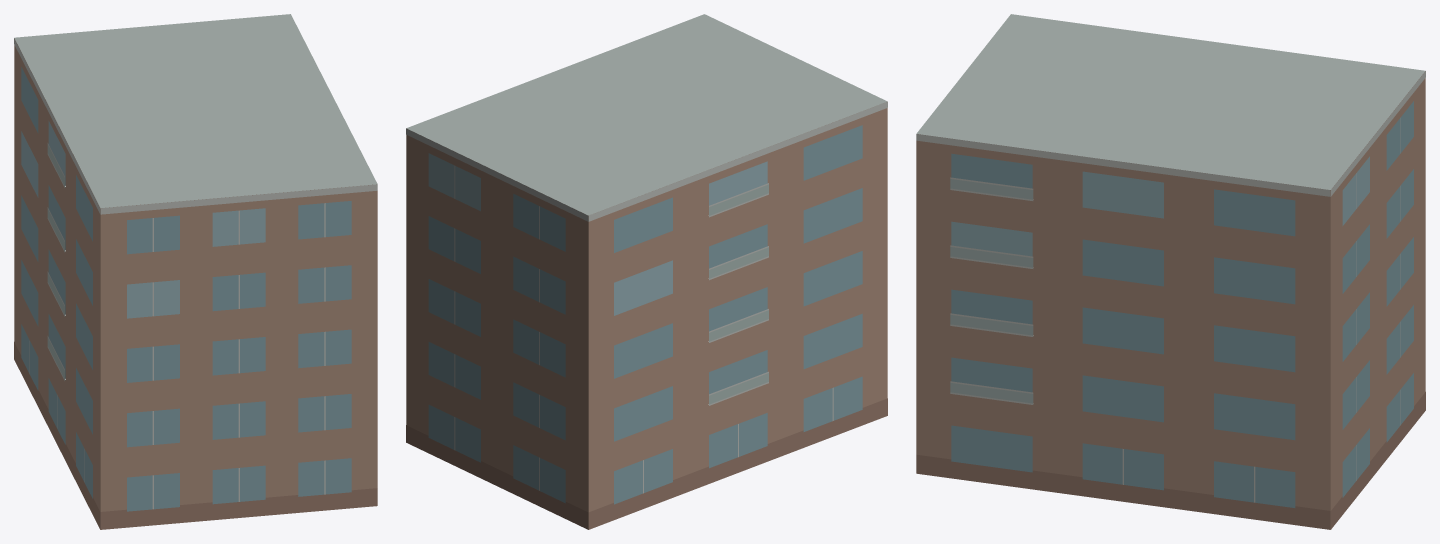
The model's file is survey-upis-32945839.glb.
3 views of the same model, side by side, from view 1: azimuth 30°, elevation 25°; view 2: azimuth 150°, elevation 25°; view 3: azimuth 270°, elevation 25° (orthographic). The views are drawn at different scales.
Parts seen in each view (by area): view 1: survey-upis-32945839.tmp; view 2: survey-upis-32945839.tmp; view 3: survey-upis-32945839.tmp.
Boxes of the visible parts, x1,y1,x2,y2 form: survey-upis-32945839.tmp: [14, 14, 377, 529]; survey-upis-32945839.tmp: [406, 14, 887, 529]; survey-upis-32945839.tmp: [916, 14, 1425, 529].
Bounding box in the file's own units: 13.57 × 12.2 × 16.59.
